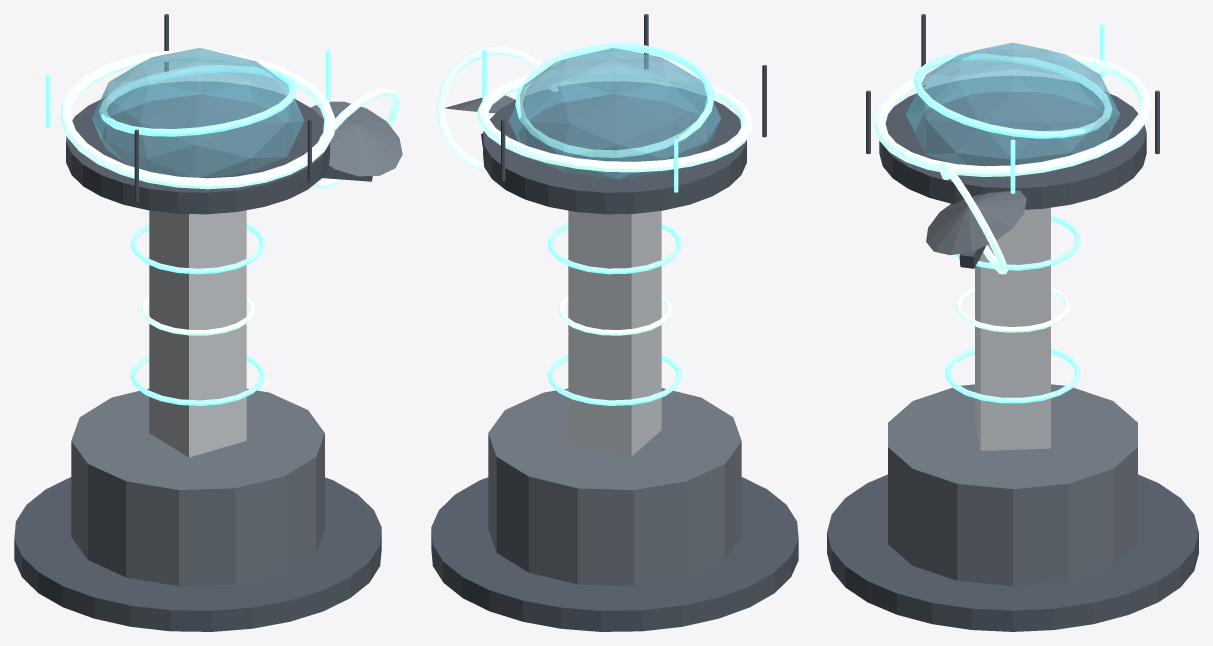
File: research-observatory-lod1.10a92fe1281f.glb
3 views of the same model, side by side, from view 1: azimuth 30°, elevation 25°; view 2: azimuth 150°, elevation 25°; view 3: azimuth 270°, elevation 25° (orthographic).
Parts seen in each view (by area): view 1: research_drum, observatory_base, crown_lower, research_spine, observation_chamber, crown_outer_ring, sensor_dish_core, crown_sensor_ring, spine_sensor_ring_3, spine_sensor_ring_1, sensor_dish_rim, spine_sensor_ring_2; view 2: research_drum, observatory_base, crown_lower, research_spine, observation_chamber, crown_outer_ring, crown_sensor_ring, sensor_dish_rim, spine_sensor_ring_1, spine_sensor_ring_3, spine_sensor_ring_2, sensor_dish_core; view 3: research_drum, observatory_base, crown_lower, observation_chamber, research_spine, crown_outer_ring, sensor_dish_core, crown_sensor_ring, spine_sensor_ring_1, sensor_dish_rim, spine_sensor_ring_2, spine_sensor_ring_3.
Part boxes in pixels (x1,y1,x2,y2): research_drum: [71, 388, 324, 586]; observatory_base: [14, 477, 381, 631]; crown_lower: [66, 81, 329, 214]; research_spine: [149, 210, 246, 457]; observation_chamber: [92, 48, 304, 177]; crown_outer_ring: [60, 49, 334, 189]; sensor_dish_core: [311, 101, 402, 176]; crown_sensor_ring: [99, 65, 296, 136]; spine_sensor_ring_3: [130, 223, 265, 274]; spine_sensor_ring_1: [130, 355, 265, 405]; sensor_dish_rim: [311, 88, 399, 188]; spine_sensor_ring_2: [141, 296, 254, 335]; research_drum: [488, 388, 741, 586]; observatory_base: [431, 477, 798, 631]; crown_lower: [483, 81, 746, 214]; research_spine: [568, 210, 661, 456]; observation_chamber: [508, 48, 721, 179]; crown_outer_ring: [477, 66, 752, 172]; crown_sensor_ring: [515, 43, 714, 157]; sensor_dish_rim: [437, 46, 557, 171]; spine_sensor_ring_1: [547, 354, 682, 405]; spine_sensor_ring_3: [547, 222, 682, 274]; spine_sensor_ring_2: [558, 295, 671, 335]; sensor_dish_core: [445, 95, 515, 113]; research_drum: [888, 384, 1137, 586]; observatory_base: [827, 474, 1198, 631]; crown_lower: [879, 76, 1146, 209]; observation_chamber: [905, 42, 1120, 166]; research_spine: [975, 207, 1050, 450]; crown_outer_ring: [874, 52, 1151, 176]; sensor_dish_core: [926, 190, 1026, 255]; crown_sensor_ring: [913, 52, 1112, 138]; spine_sensor_ring_1: [945, 348, 1080, 403]; sensor_dish_rim: [939, 163, 1007, 274]; spine_sensor_ring_2: [955, 287, 1070, 332]; spine_sensor_ring_3: [953, 215, 1080, 270].
Size of the model in its own units: 7.71 by 10.43 by 7.1.
